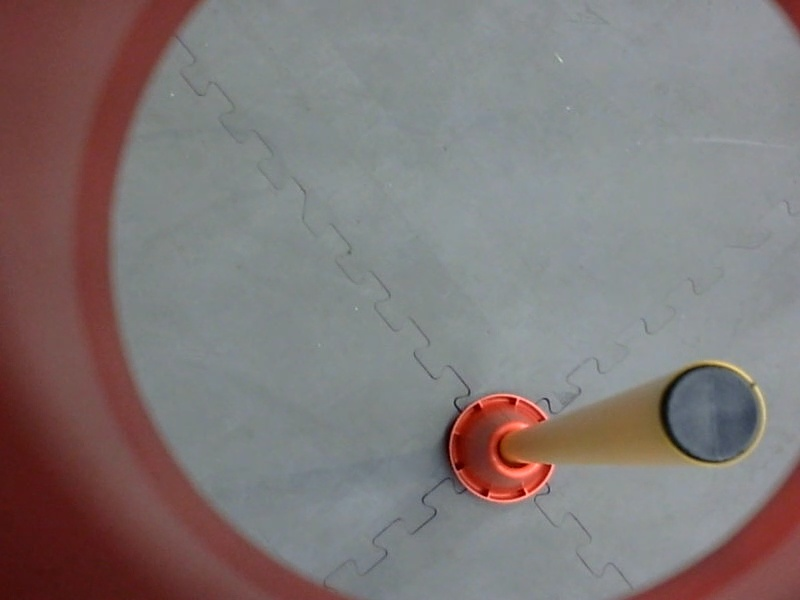tip: (657, 353, 772, 473)
